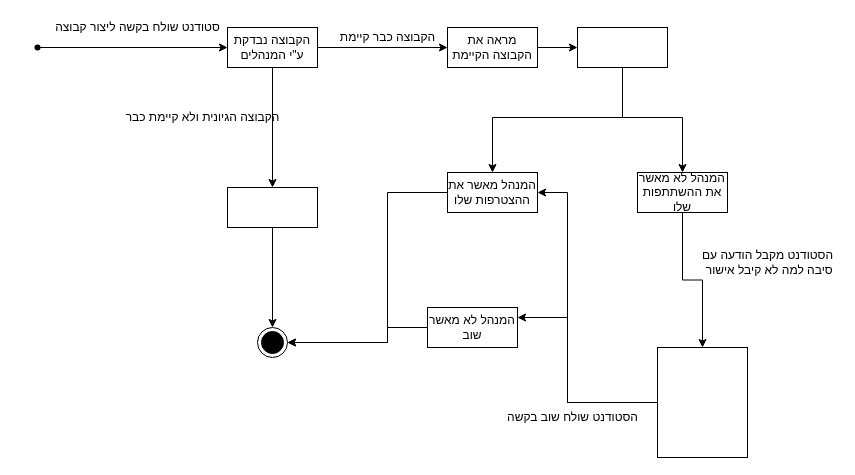
This 855x475 diagram has some shape labels left out. The shapes that lost their labels are listed below. From the top down, each one's centre as x and y in pixels, then its label:
pixel 622 47: המשתמש שולח בקשת הצטרפות למנהל הקבוצה
pixel 272 207: נוצרת קבוצה חדשה
pixel 702 402: הסטודנט יכול לשלוח בקשה נוספת למנהל הקבוצה עם הסבר למה הוא רוצה להצטרף
